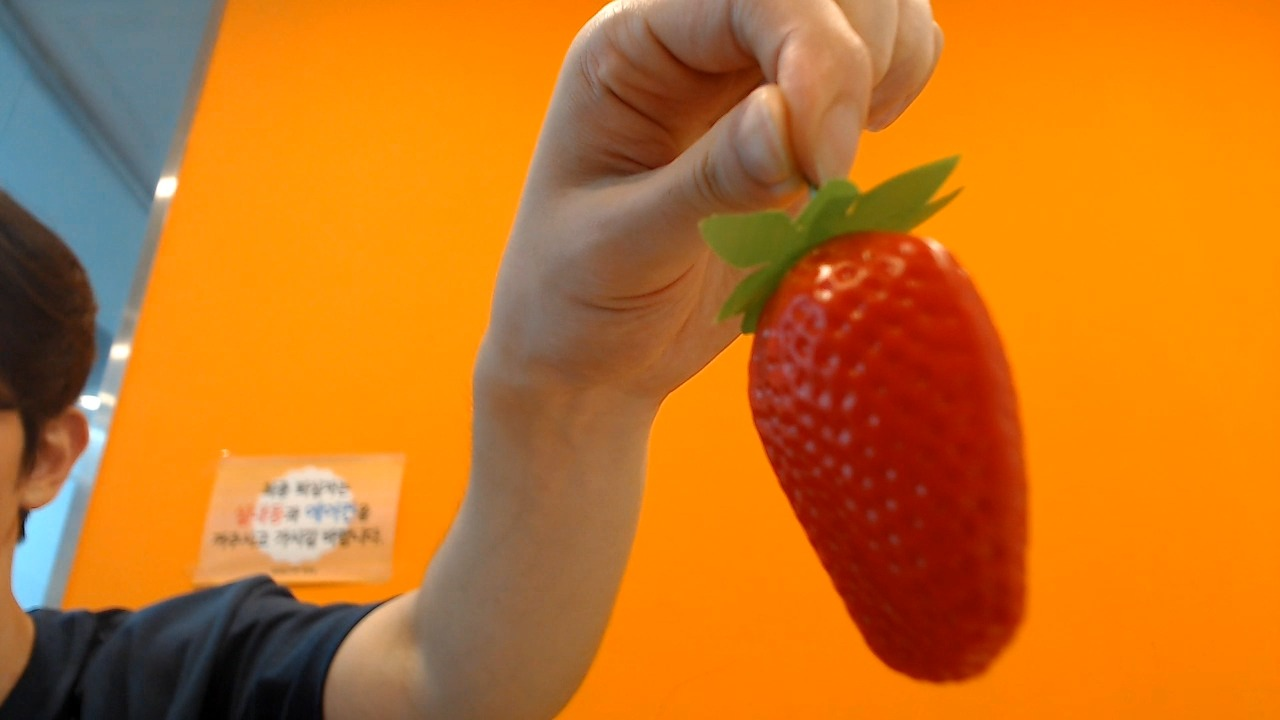strawberry: (747, 204, 1029, 679)
